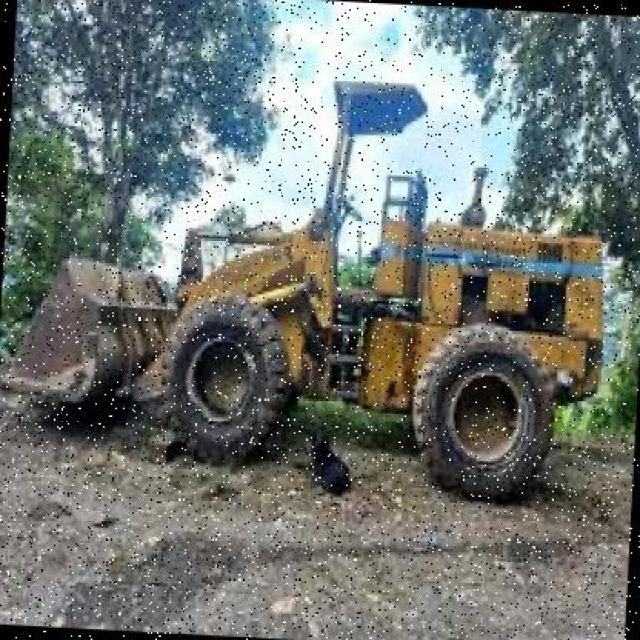buldozerpayloadergrader: (5, 31, 620, 508)
